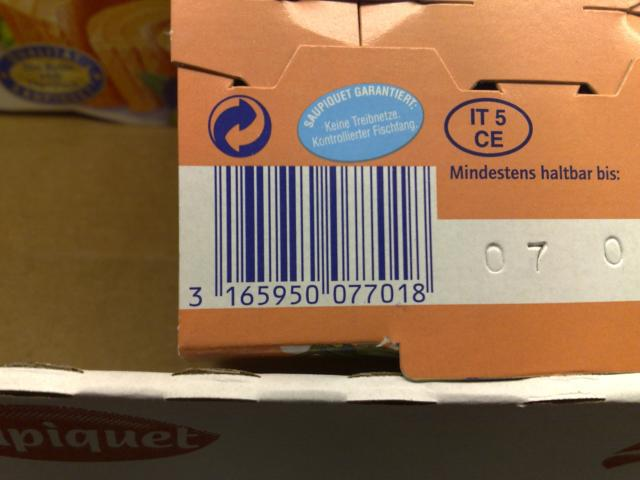Barkod: (209, 164, 432, 283)
